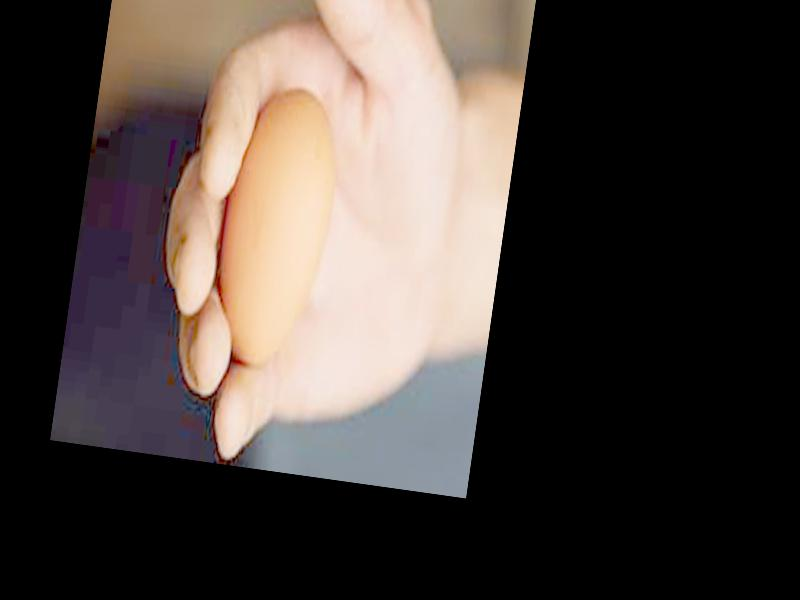Eggs: (208, 85, 345, 374)
